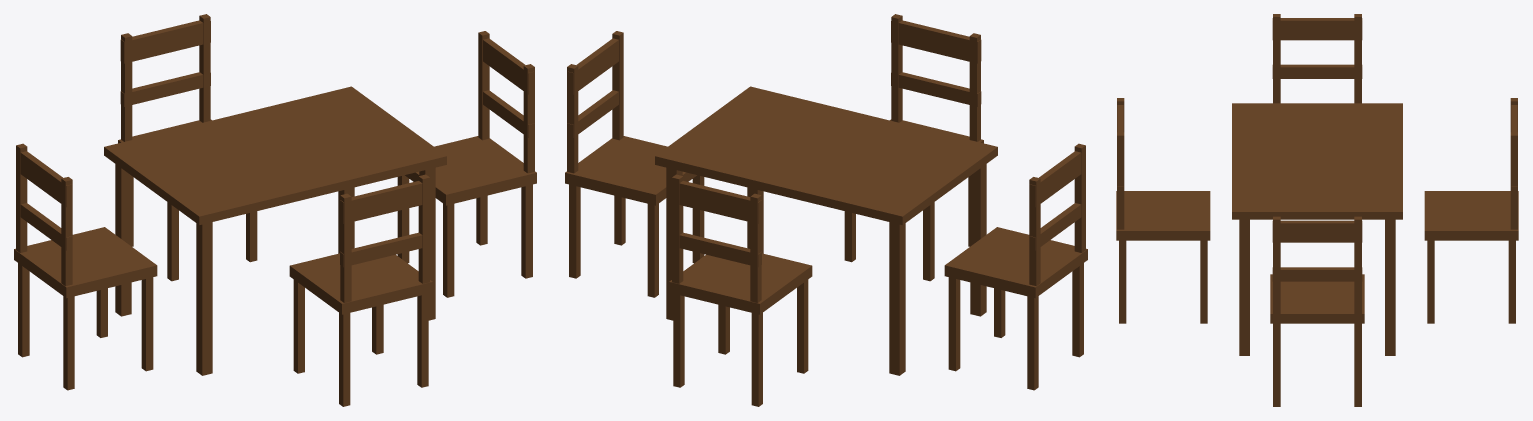
The model's file is table-set.glb.
The picture shows the model from 3 angles, left to right: view 1: azimuth 30°, elevation 25°; view 2: azimuth 150°, elevation 25°; view 3: azimuth 270°, elevation 25°; orthographic projection. The views are drawn at different scales.
Parts seen in each view (by area): view 1: table-set; view 2: table-set; view 3: table-set.
Part boxes in pixels (x1,y1,x2,y2): table-set: (14, 14, 536, 406); table-set: (565, 14, 1087, 406); table-set: (1116, 14, 1518, 406).
Bounding box in the file's own units: 2.28 × 0.97 × 1.88.
